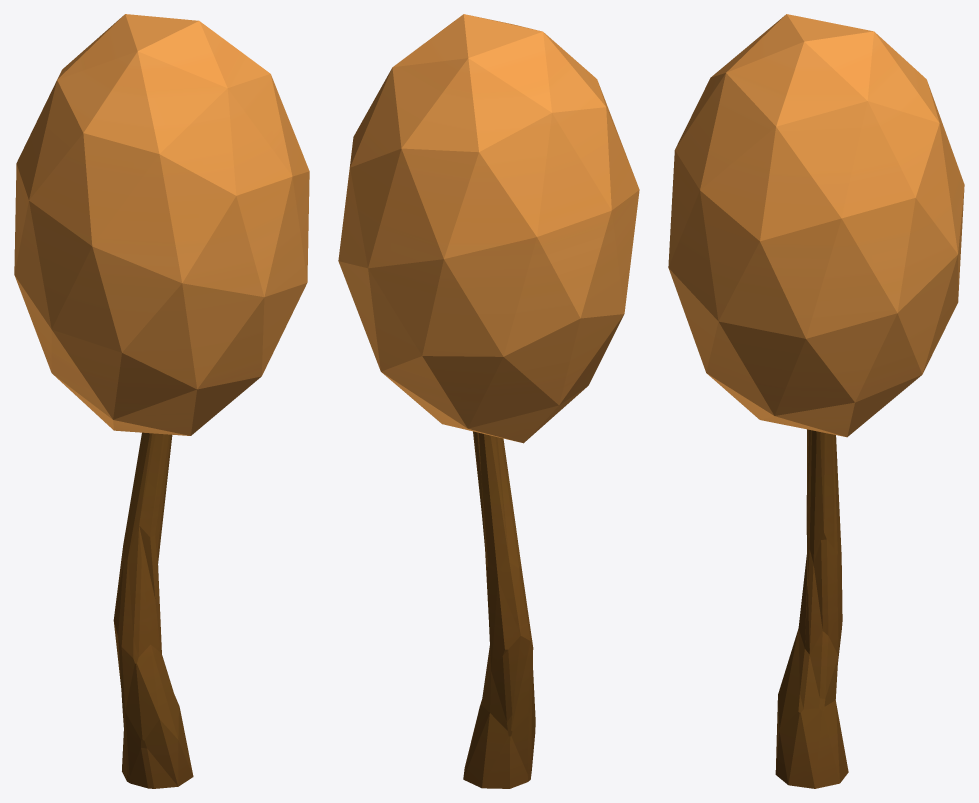
Rendered from tree_poplar.glb.
3 views of the same model, side by side, from view 1: azimuth 30°, elevation 25°; view 2: azimuth 150°, elevation 25°; view 3: azimuth 270°, elevation 25° (orthographic).
Parts seen in each view (by area): view 1: Poplar Tree_4_AA; view 2: Poplar Tree_4_AA; view 3: Poplar Tree_4_AA.
Part boxes in pixels (left/top/right/bottom): Poplar Tree_4_AA: left=14, top=14, right=309, bottom=788; Poplar Tree_4_AA: left=338, top=14, right=639, bottom=788; Poplar Tree_4_AA: left=668, top=14, right=964, bottom=788.
Size of the model in its own units: 1.56 by 4.36 by 1.56.
1 material, 1 textured.
